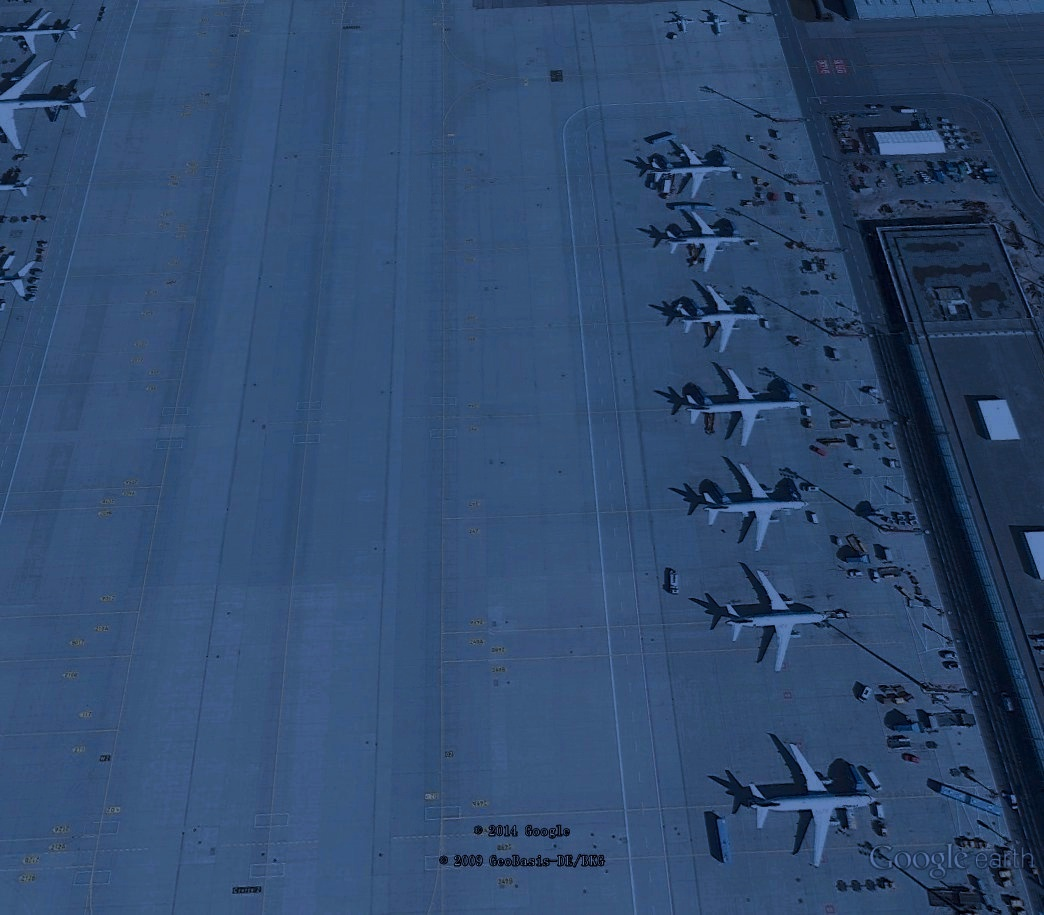aircraft: (741, 735, 889, 877), (717, 562, 834, 676), (675, 360, 813, 453), (693, 454, 819, 555), (1, 54, 96, 162), (670, 280, 769, 358), (660, 205, 754, 279), (643, 138, 739, 202), (4, 7, 87, 58), (699, 10, 732, 40), (664, 9, 696, 36)
